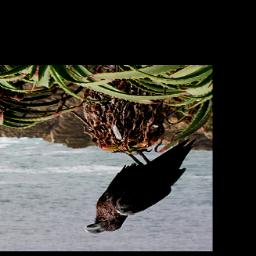Crow: (80, 137, 200, 235)
